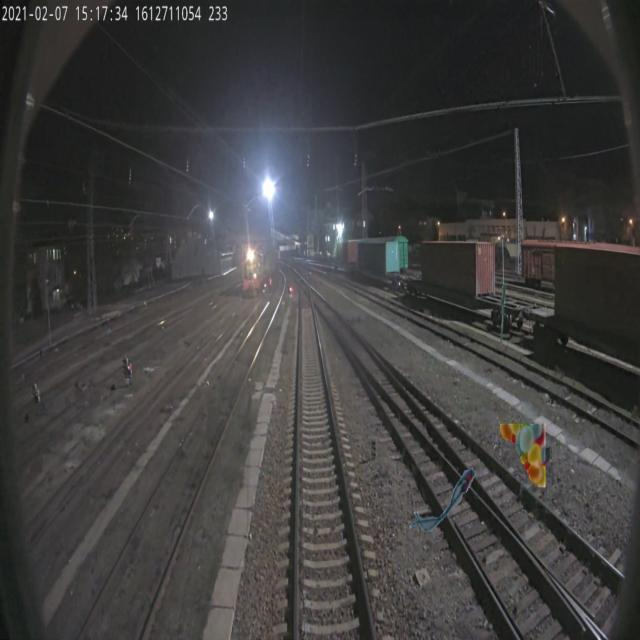balloon: (500, 423, 545, 487)
floating object: (409, 468, 477, 532), (499, 282, 506, 346)
